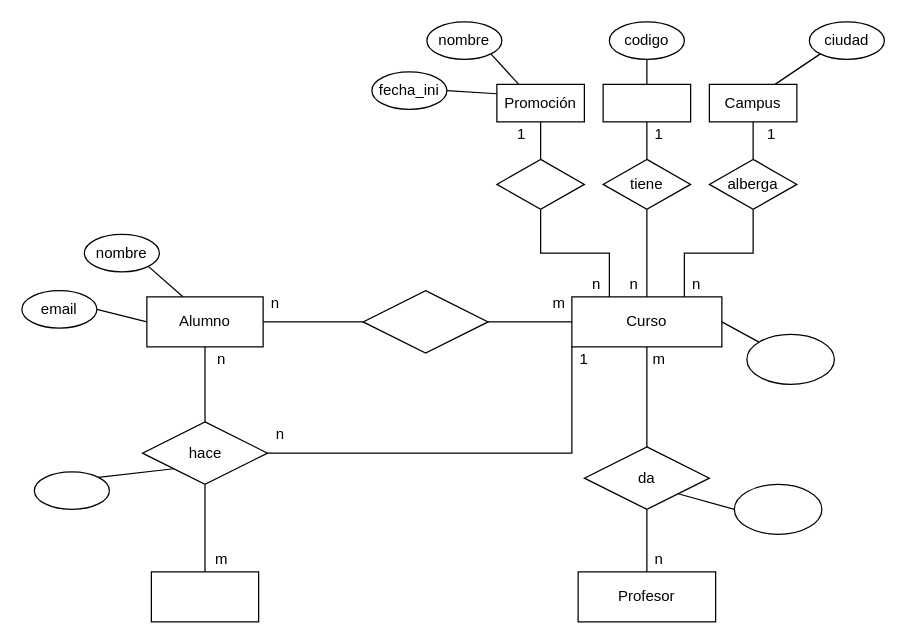
Image size: 906x644. Some labels were removed from this diagram. Here are the shapes that lost their labels. From the top down, the centre of each, then its label:
(x=646, y=102): Vertical
(x=540, y=183): inicia
(x=425, y=321): se matricula
(x=790, y=358): modalidad
(x=71, y=490): apto
(x=777, y=508): rol
(x=204, y=596): Proyecto
